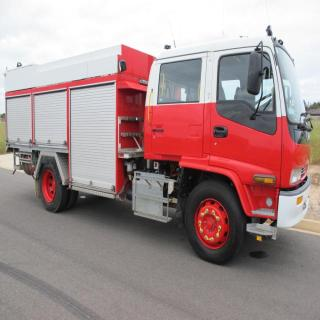Fire_truck: (3, 23, 313, 264)
